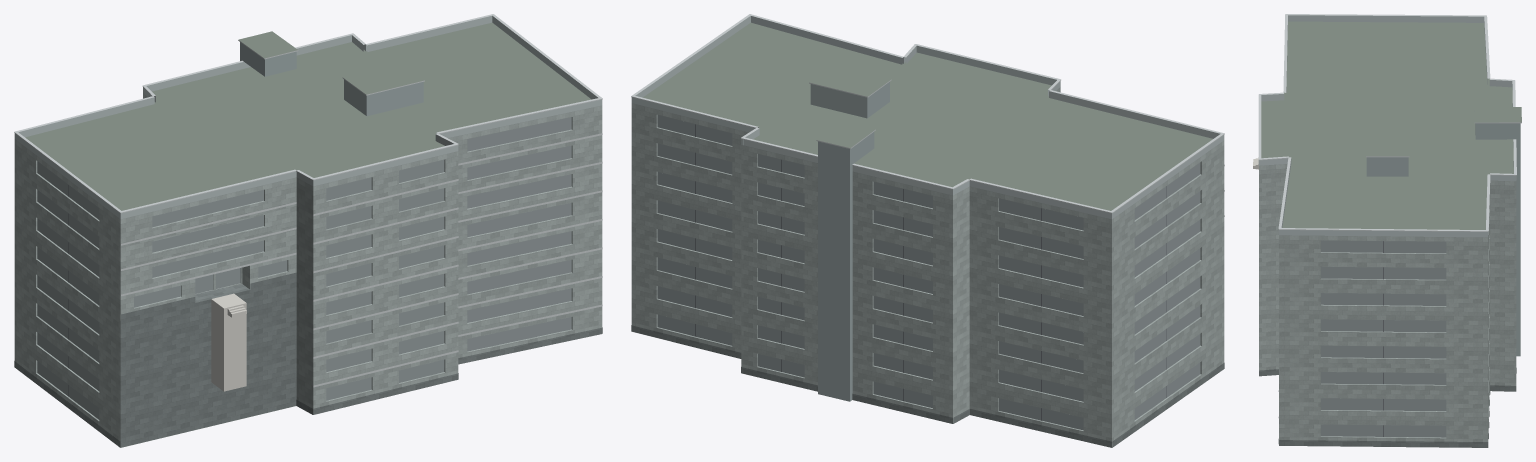
3 renders of one model, left to right at view 1: azimuth 30°, elevation 25°; view 2: azimuth 150°, elevation 25°; view 3: azimuth 270°, elevation 25°, orthographic. The views are drawn at different scales.
Visible parts, largest first — view 1: b310__wall, b310__roof, b310__glass, b310__base, b310__trim, b310__parapet, b310__entranceStair, b310__wall2; view 2: b310__wall, b310__roof, b310__glass, b310__wall2, b310__parapet, b310__base, b310__trim; view 3: b310__roof, b310__wall, b310__glass, b310__parapet, b310__trim, b310__wall2, b310__base.
Part boxes in pixels (box(x1,y1,x2,y2)): b310__wall: box(14, 93, 602, 447); b310__roof: box(25, 22, 591, 447); b310__glass: box(37, 117, 571, 419); b310__base: box(14, 272, 602, 447); b310__trim: box(14, 14, 602, 387); b310__parapet: box(14, 15, 602, 219); b310__entranceStair: box(211, 293, 246, 391); b310__wall2: box(240, 42, 423, 115); b310__wall: box(631, 87, 1224, 447); b310__roof: box(643, 22, 1212, 210); b310__glass: box(657, 115, 1200, 430); b310__wall2: box(810, 82, 889, 401); b310__parapet: box(631, 16, 1224, 219); b310__base: box(631, 325, 1224, 447); b310__trim: box(631, 14, 1224, 216); b310__roof: box(1261, 21, 1521, 229); b310__wall: box(1259, 164, 1516, 441); b310__glass: box(1321, 240, 1446, 437); b310__parapet: box(1258, 15, 1516, 237); b310__trim: box(1258, 14, 1521, 417); b310__wall2: box(1366, 123, 1520, 356); b310__base: box(1259, 368, 1516, 447).
Bounding box in the file's own units: 63.81 × 32.09 × 33.36.
10 materials, 2 textured.
